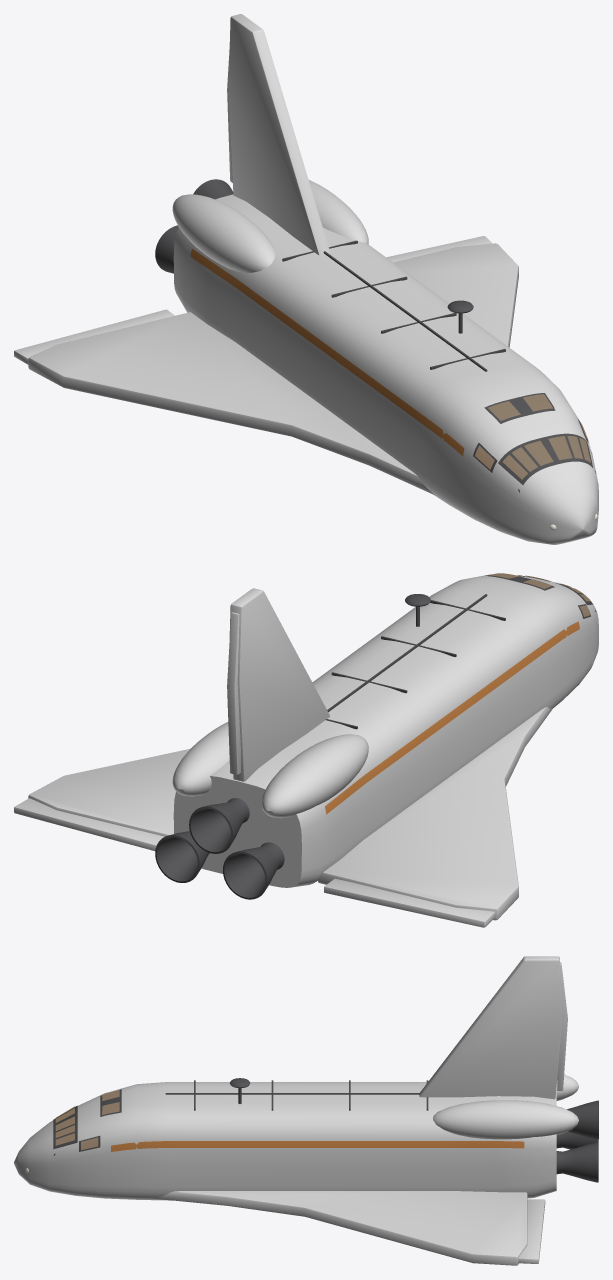
Rendered from Shuttle.fbx.
3 renders of one model, top to bottom at view 1: azimuth 30°, elevation 25°; view 2: azimuth 150°, elevation 25°; view 3: azimuth 270°, elevation 25°, orthographic. The views are drawn at different scales.
Visible parts, largest first — view 1: Shuttle; view 2: Shuttle; view 3: Shuttle.
Part boxes in pixels (bbox=[...]): Shuttle: bbox=[14, 14, 598, 544]; Shuttle: bbox=[14, 573, 598, 927]; Shuttle: bbox=[14, 956, 598, 1265].
Size of the model in its own units: 13.23 by 7.68 by 18.11.
